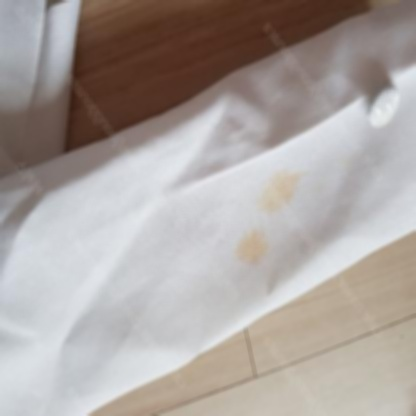kimchi: (262, 166, 307, 218), (237, 234, 268, 271)
